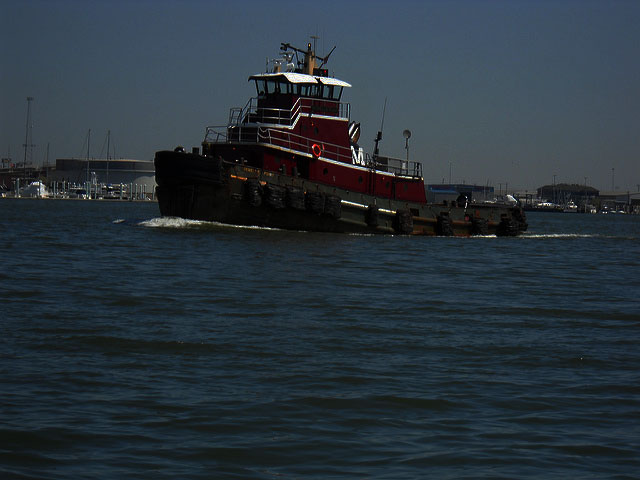tug_boat: (151, 31, 527, 239)
